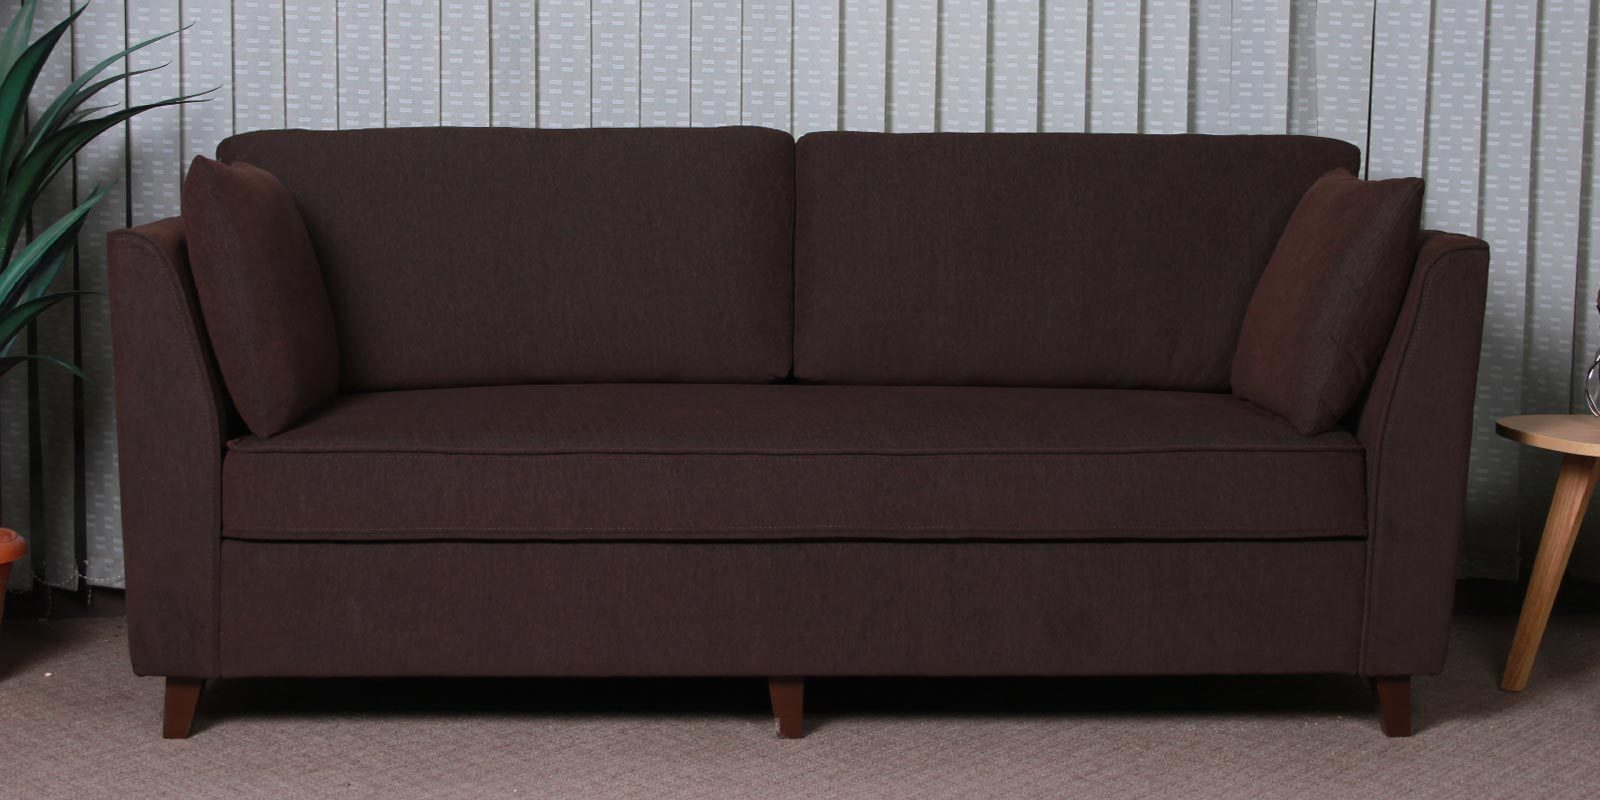Miranda Three Seater Sofa in Chestnut Brown Colour by CasaCraft: (111, 124, 1492, 737)
